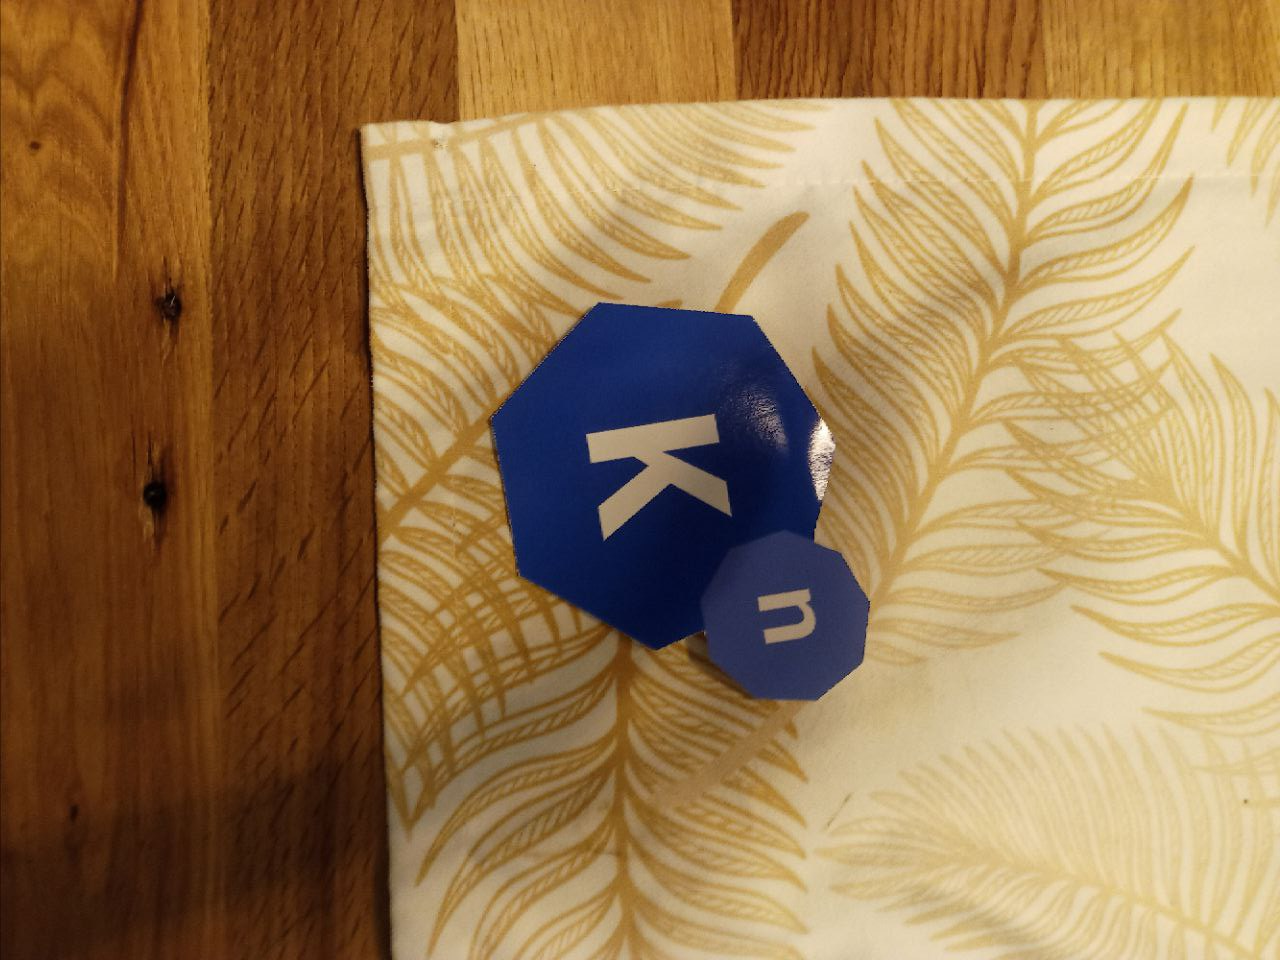knative: (481, 301, 872, 702)
